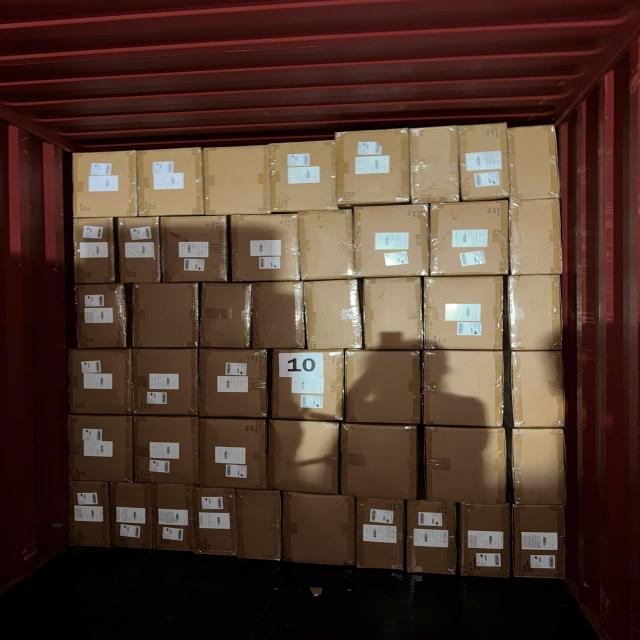Carton: (426, 424, 510, 504), (424, 349, 508, 428), (431, 202, 512, 280), (422, 276, 504, 352), (339, 426, 416, 504), (343, 351, 420, 427), (352, 206, 429, 280), (337, 132, 410, 210), (285, 493, 358, 570), (267, 419, 340, 496), (272, 348, 344, 420), (232, 212, 303, 284), (197, 416, 265, 489), (198, 350, 267, 420), (132, 417, 199, 488), (163, 214, 231, 283), (132, 346, 199, 416), (203, 146, 269, 217), (273, 144, 337, 217), (361, 277, 422, 353), (70, 414, 136, 483), (135, 280, 201, 348), (70, 150, 136, 218), (511, 349, 567, 429), (512, 426, 568, 506), (140, 152, 206, 219), (516, 503, 570, 582), (306, 279, 364, 352), (71, 348, 134, 415), (510, 274, 564, 352), (301, 210, 358, 283), (511, 198, 563, 276), (461, 503, 512, 581), (407, 498, 458, 576), (411, 129, 461, 207), (462, 127, 512, 204), (512, 128, 562, 203), (354, 497, 402, 572), (254, 280, 306, 348), (199, 282, 250, 350), (238, 488, 283, 564), (76, 285, 128, 350), (194, 490, 236, 561), (118, 216, 161, 285), (111, 484, 153, 554), (156, 486, 197, 556), (70, 483, 110, 552), (73, 217, 113, 284)
